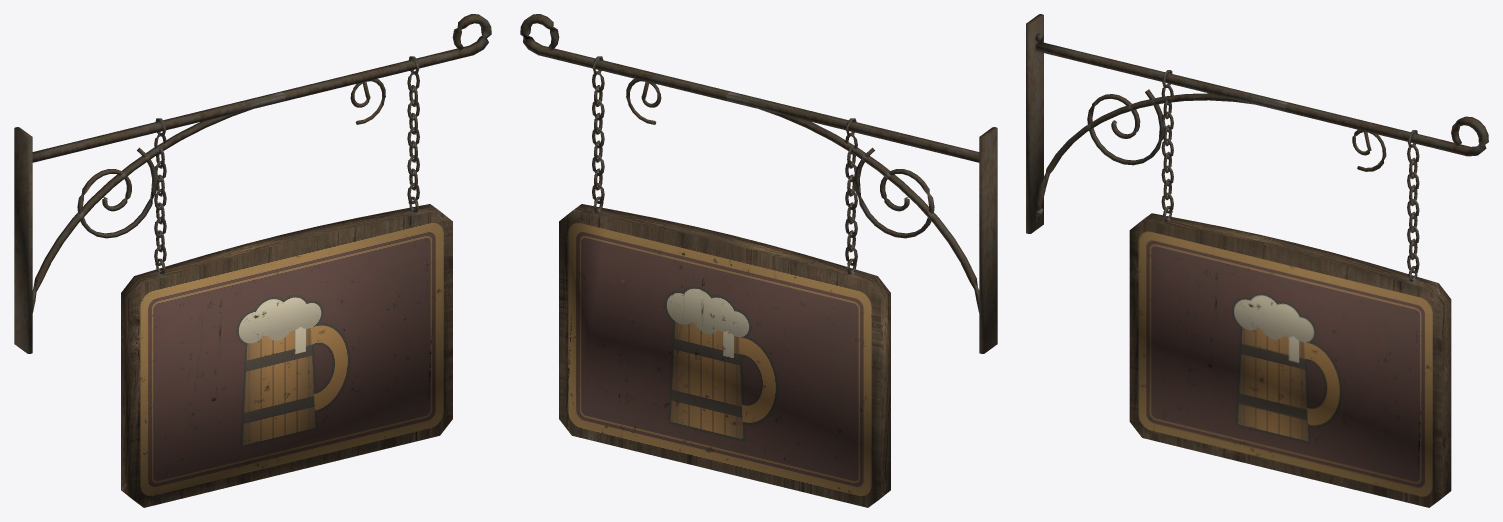
Rendered from tavern_sign.glb.
3 renders of one model, left to right at view 1: azimuth 30°, elevation 25°; view 2: azimuth 150°, elevation 25°; view 3: azimuth 330°, elevation 25°, orthographic. The views are drawn at different scales.
Parts seen in each view (by area): view 1: tavern_sign; view 2: tavern_sign; view 3: tavern_sign.
Part boxes in pixels (left/top/right/bottom): tavern_sign: left=14, top=14, right=491, bottom=507; tavern_sign: left=520, top=14, right=997, bottom=507; tavern_sign: left=1026, top=14, right=1488, bottom=507.
Bounding box in the file's own units: 1.09 × 0.9072 × 0.06.
1 material, 1 textured.
